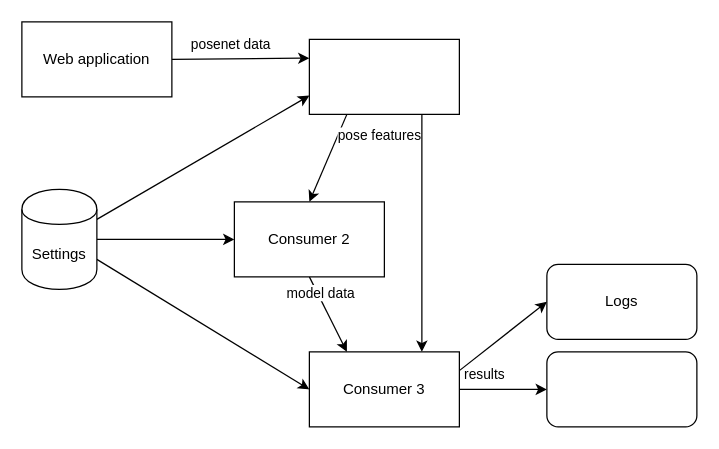
Some shapes in this 719 by 449 pixel diagram are drawn without their labels. The centre of each missing label's shape, as x and y in pixels:
Consumer 1: (383,76)
Liveplot: (621,389)
